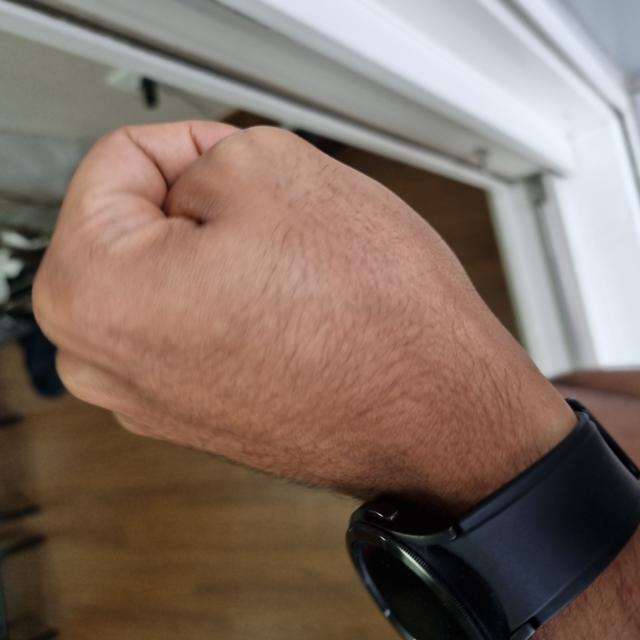Rock: (143, 26, 523, 548)
